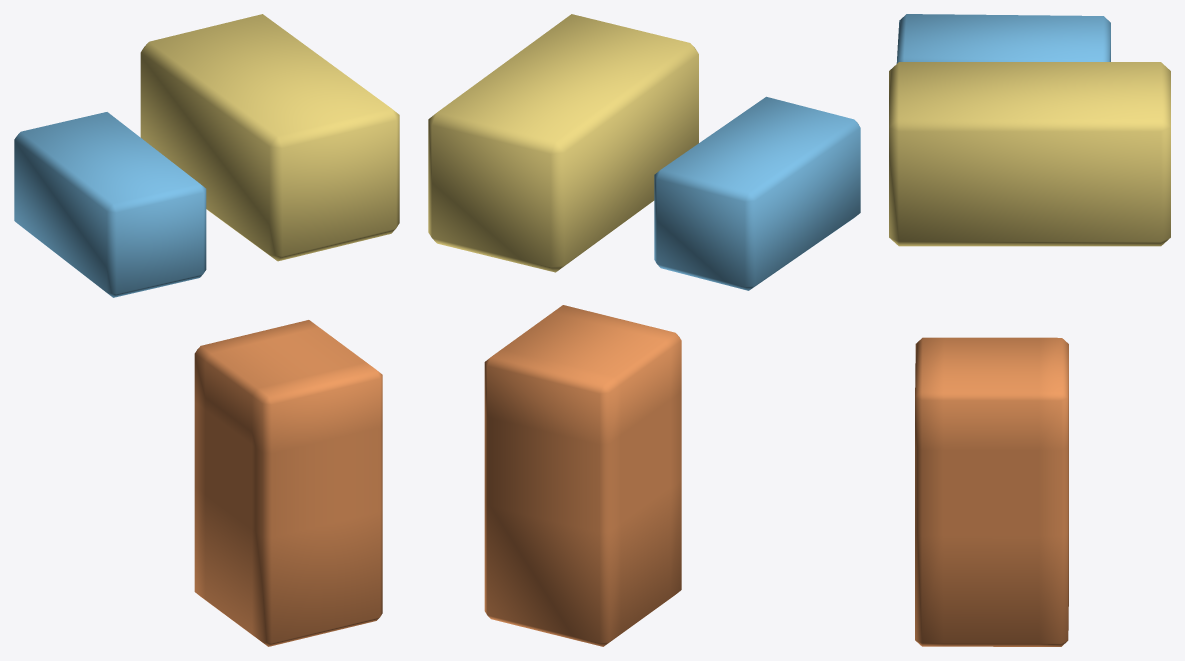
File: Misc_boxes.fbx
The picture shows the model from 3 angles, left to right: view 1: azimuth 30°, elevation 25°; view 2: azimuth 150°, elevation 25°; view 3: azimuth 270°, elevation 25°; orthographic projection. The views are drawn at different scales.
Parts seen in each view (by area): view 1: Misc_box.005, Misc_box.003, Misc_box.004; view 2: Misc_box.005, Misc_box.003, Misc_box.004; view 3: Misc_box.003, Misc_box.005, Misc_box.004.
Boxes of the visible parts, bbox=[...] form: Misc_box.005: bbox=[194, 320, 382, 646]; Misc_box.003: bbox=[140, 14, 399, 261]; Misc_box.004: bbox=[14, 112, 206, 297]; Misc_box.005: bbox=[484, 305, 681, 646]; Misc_box.003: bbox=[428, 14, 698, 272]; Misc_box.004: bbox=[654, 96, 860, 290]; Misc_box.003: bbox=[889, 62, 1170, 246]; Misc_box.005: bbox=[915, 337, 1068, 646]; Misc_box.004: bbox=[896, 14, 1110, 63].
Size of the model in its own units: 43.05 by 74.03 by 35.71.
